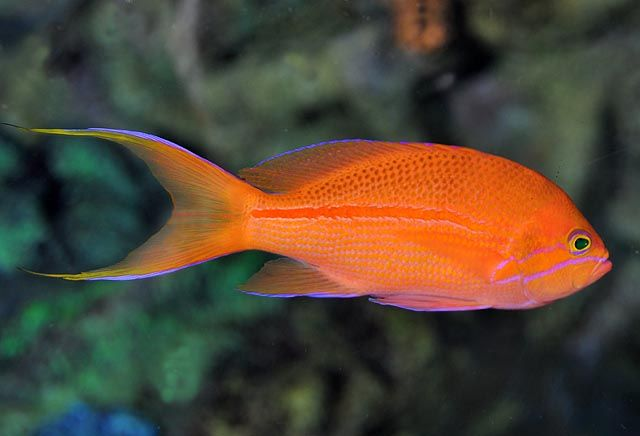fish: (1, 122, 612, 312)
